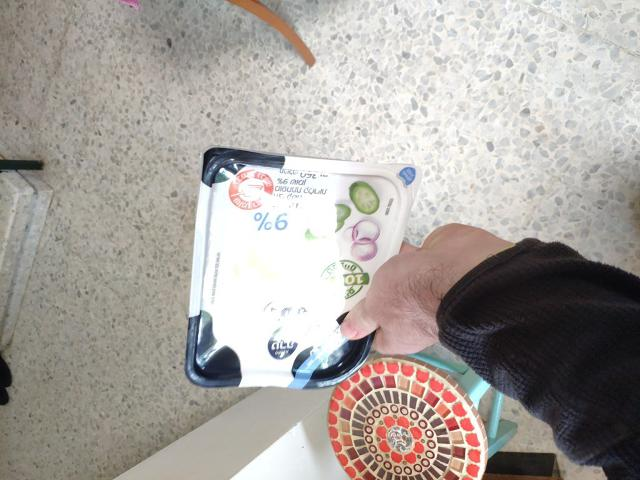cheese: (231, 153, 494, 391)
